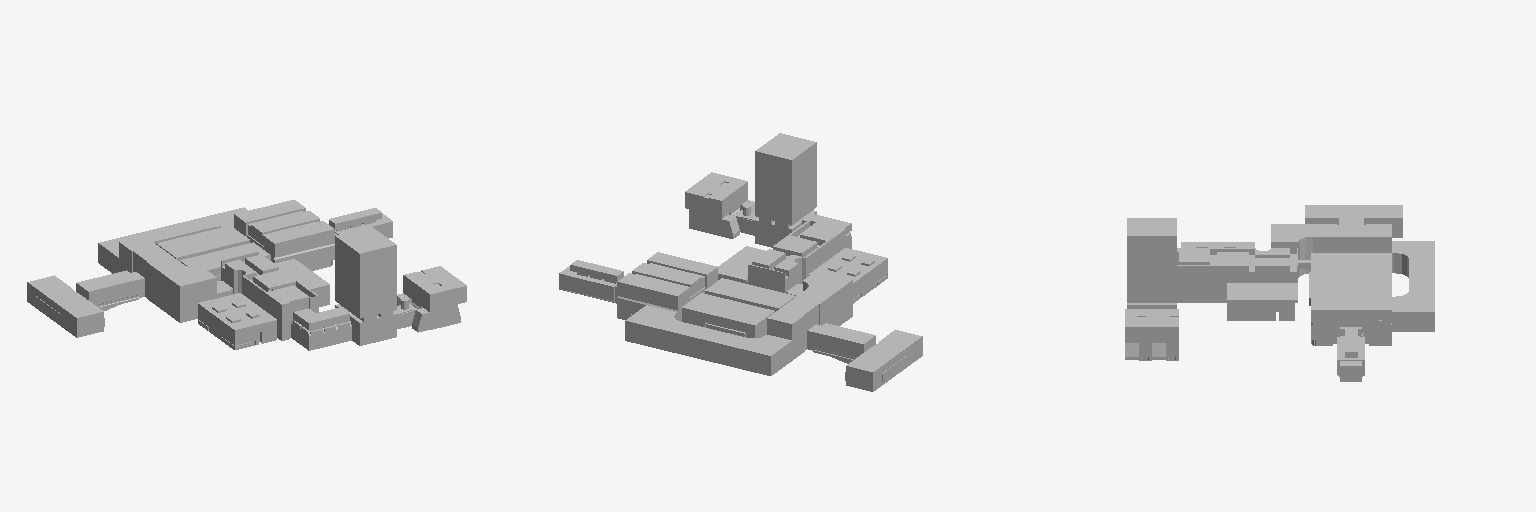
The model's file is map.obj.
3 views of the same model, side by side, from view 1: azimuth 30°, elevation 25°; view 2: azimuth 150°, elevation 25°; view 3: azimuth 270°, elevation 25° (orthographic).
Visible parts, largest first — view 1: c1a0; view 2: c1a0; view 3: c1a0.
Part boxes in pixels (x1,y1,x2,y2): c1a0: (27, 200, 466, 350); c1a0: (559, 133, 922, 391); c1a0: (1125, 205, 1434, 381).
Bounding box in the file's own units: 27.56 × 8.08 × 22.08.